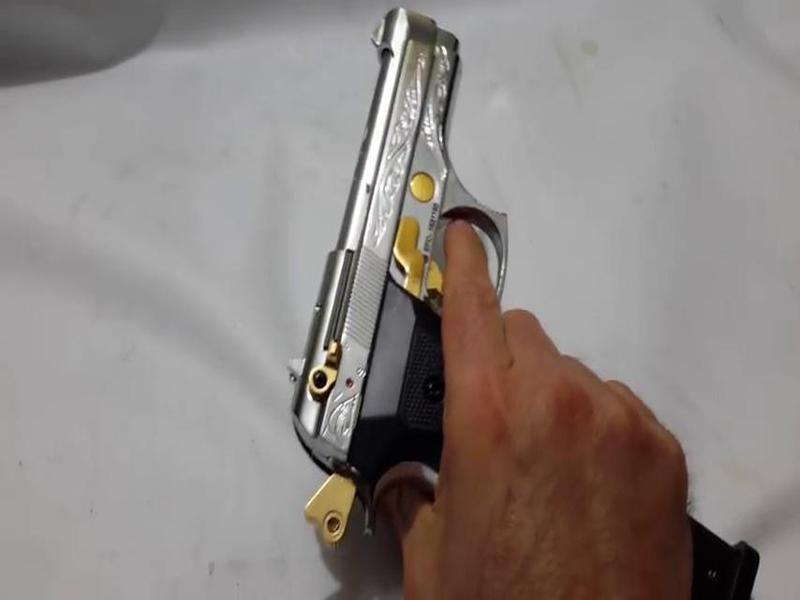Pistola: (248, 4, 580, 555)
